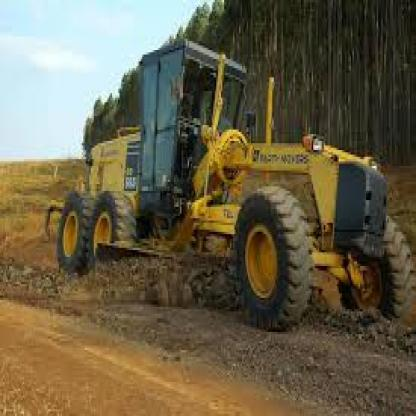bull_dozer/loader/grader: (45, 29, 413, 364)
